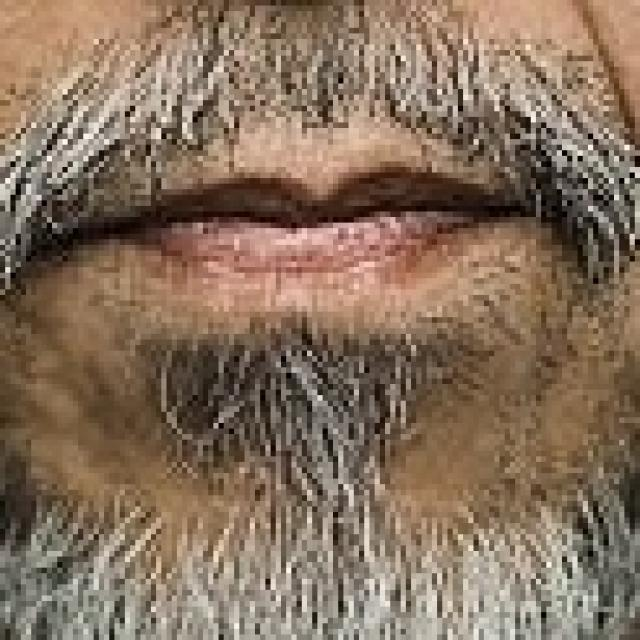closed-mouth: (74, 153, 540, 302)
